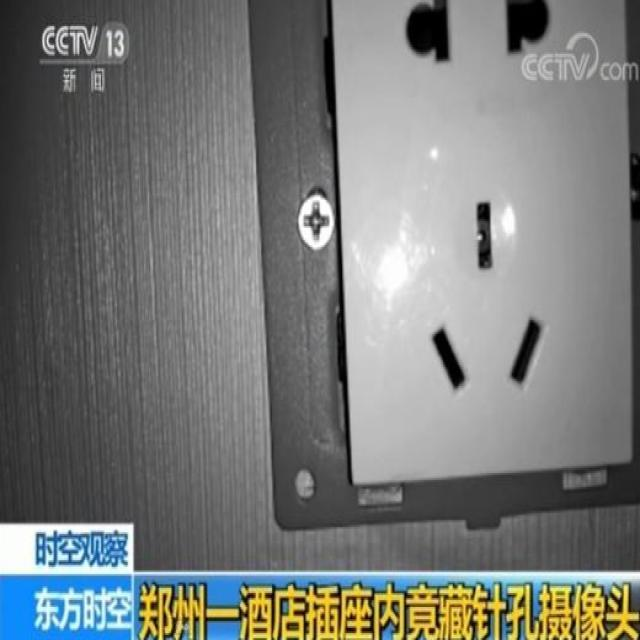hidden camera: (475, 224, 488, 247)
